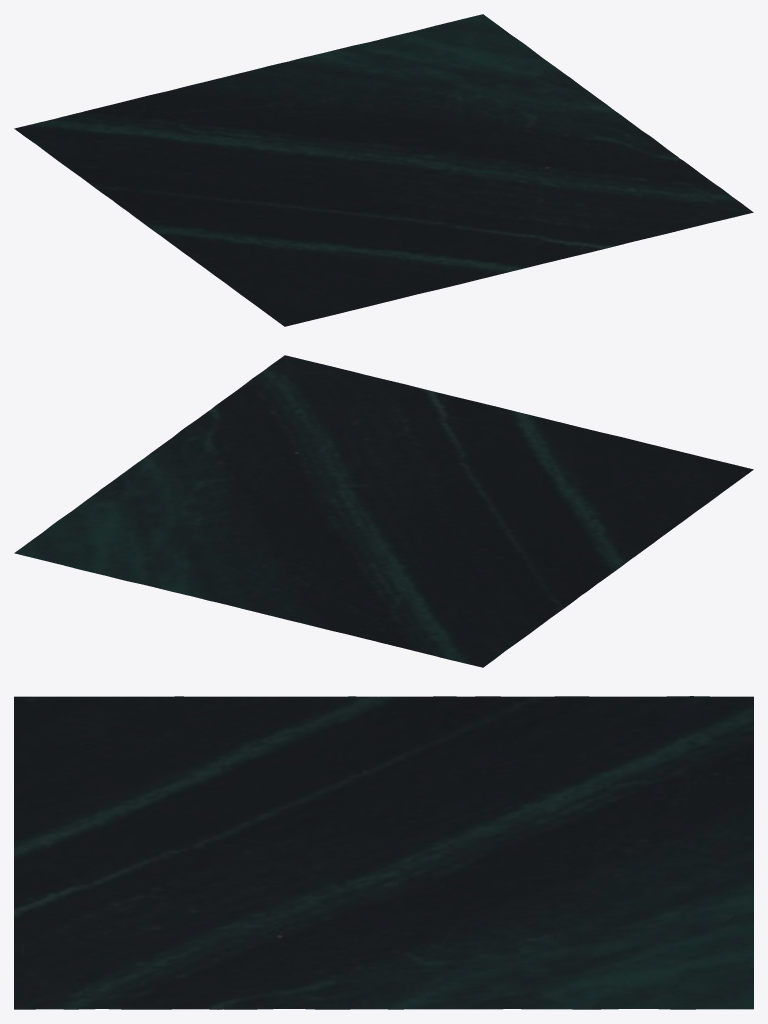
The picture shows the model from 3 angles, top to bottom: view 1: azimuth 30°, elevation 25°; view 2: azimuth 150°, elevation 25°; view 3: azimuth 270°, elevation 25°; orthographic projection. The views are drawn at different scales.
Bounding box in the file's own units: 209 × 0.4888 × 209.
Materials: 3 (3 with a texture image).
